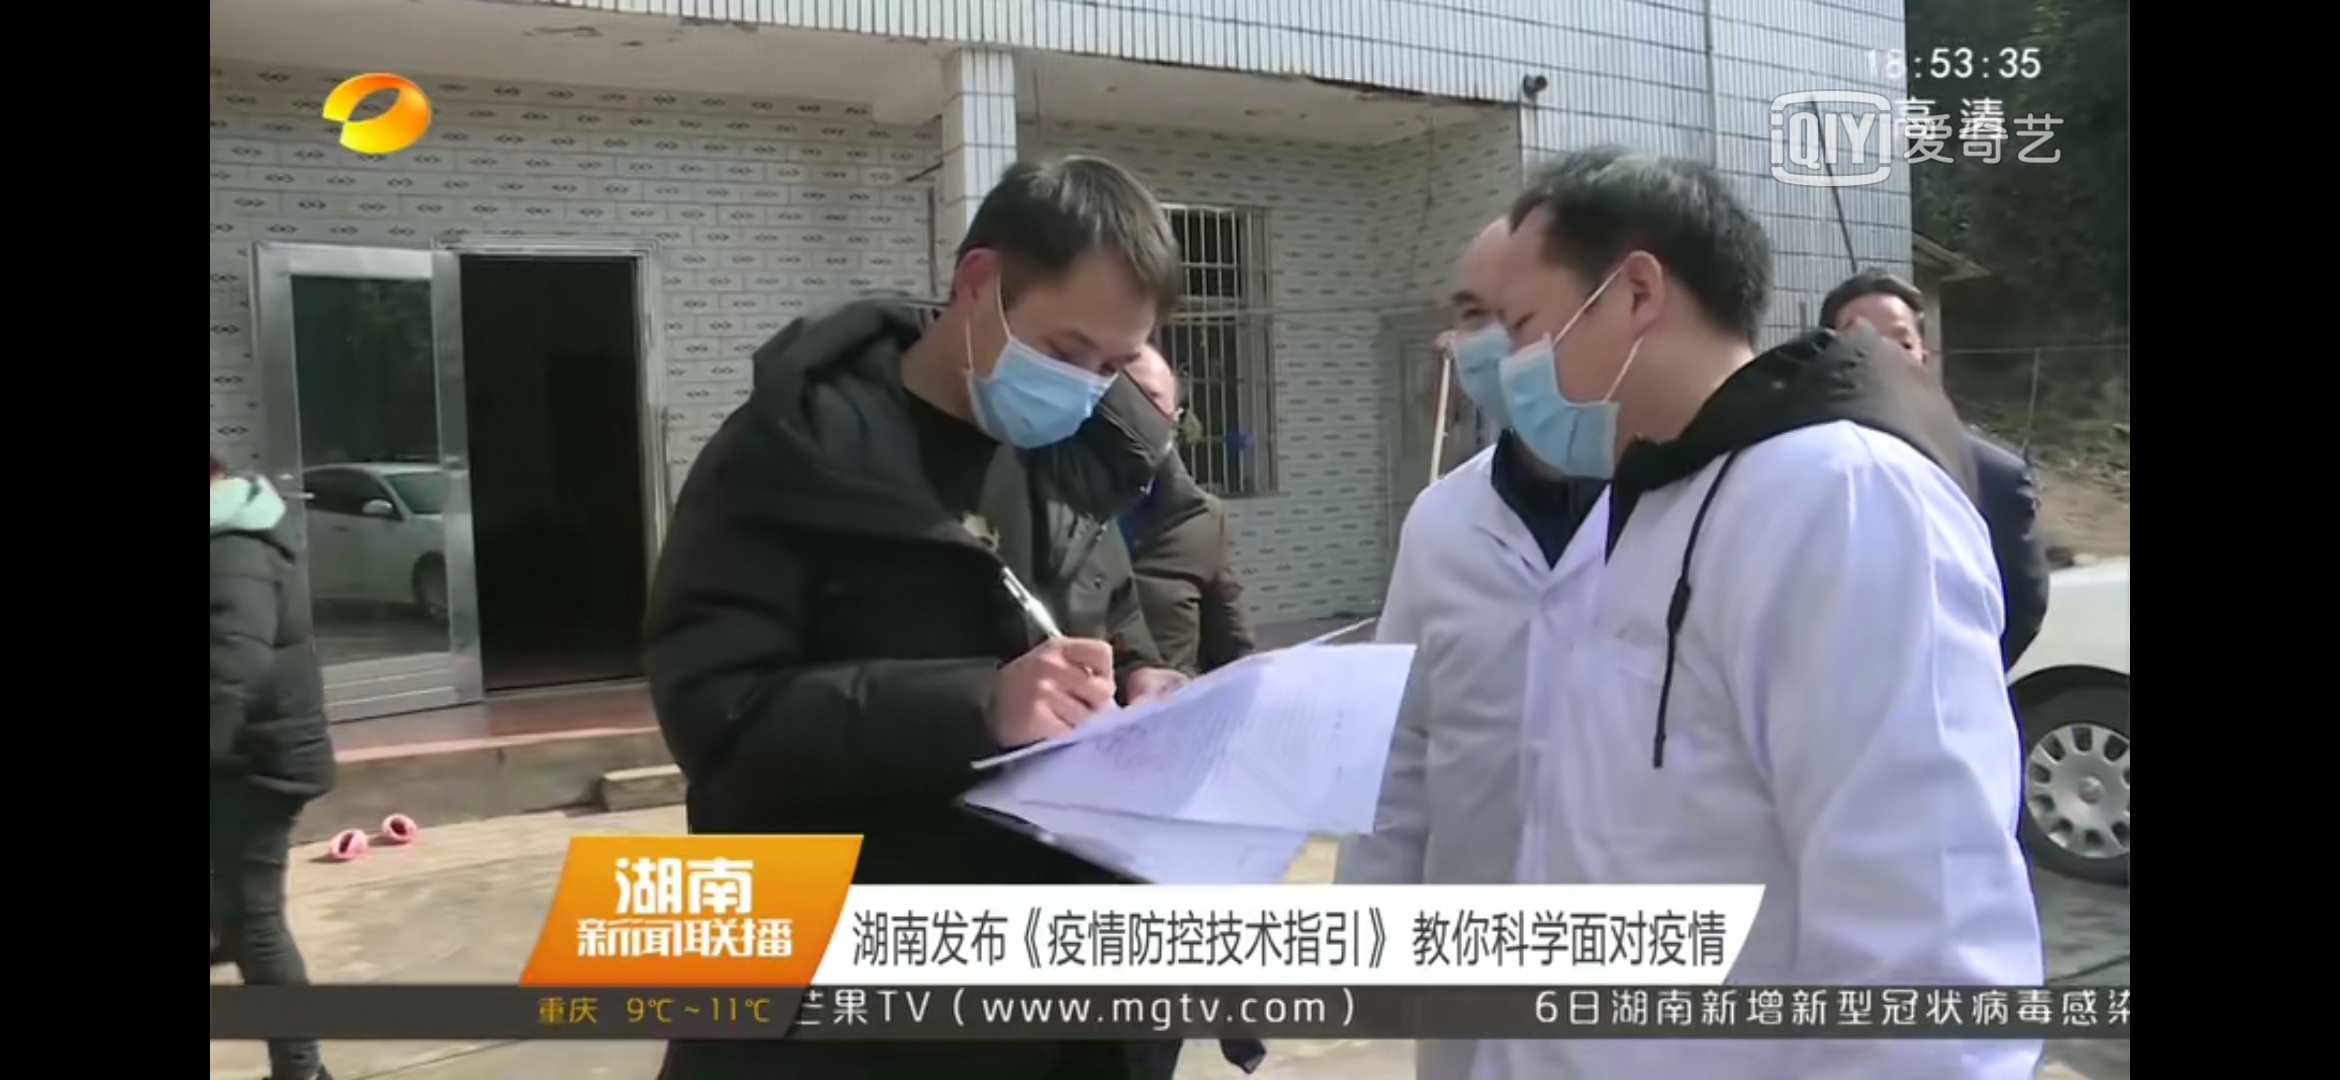correctlyWear: (1498, 242, 1718, 477), (936, 230, 1121, 462), (1449, 280, 1515, 422)
